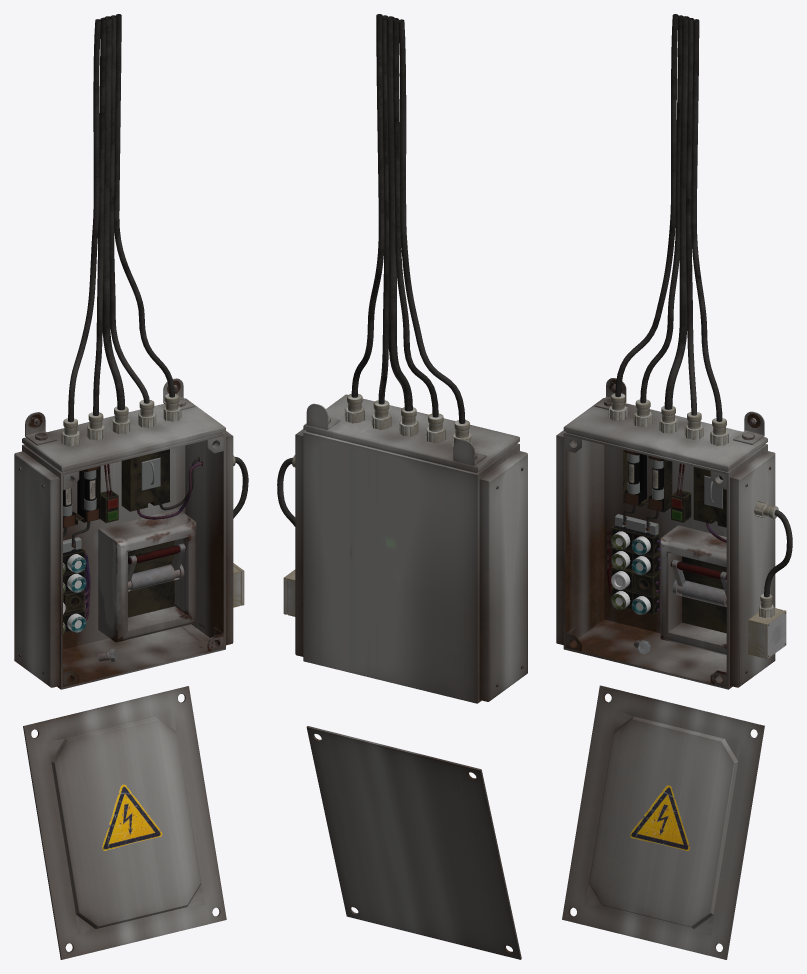
Rendered from old_fuse_box.glb.
3 views of the same model, side by side, from view 1: azimuth 30°, elevation 25°; view 2: azimuth 150°, elevation 25°; view 3: azimuth 330°, elevation 25° (orthographic). The views are drawn at different scales.
Visible parts, largest first — view 1: Lid, Cube.001, Cylinder.007, Cube.017, Top, BezierCurve, BezierCurve.004, BezierCurve.003, BezierCurve.002, BezierCurve.001, Cube.002, Cube.008 (+7 smaller); view 2: Cube.001, Lid, Cube.017, Top, BezierCurve, BezierCurve.004, BezierCurve.003, BezierCurve.002, BezierCurve.001, Cube.002, Cube.003, Cube.004; view 3: Lid, Cube.001, Cube.002, Cylinder.007, Top, BezierCurve, BezierCurve.002, BezierCurve.004, BezierCurve.001, BezierCurve.003, Cube.017, Cube.004 (+12 smaller).
Boxes of the visible parts, x1=… form: Lid: x1=23, y1=686, x2=226, y2=959; Cube.001: x1=22, y1=432, x2=225, y2=689; Cylinder.007: x1=98, y1=509, x2=196, y2=642; Cube.017: x1=14, y1=451, x2=59, y2=687; Top: x1=22, y1=398, x2=225, y2=472; BezierCurve: x1=102, y1=16, x2=124, y2=410; BezierCurve.004: x1=68, y1=19, x2=100, y2=422; BezierCurve.003: x1=93, y1=17, x2=106, y2=415; BezierCurve.002: x1=114, y1=14, x2=174, y2=397; BezierCurve.001: x1=109, y1=15, x2=149, y2=403; Cube.002: x1=224, y1=431, x2=233, y2=645; Cube.008: x1=130, y1=449, x2=169, y2=511; Cube.001: x1=303, y1=431, x2=519, y2=703; Lid: x1=306, y1=726, x2=521, y2=959; Cube.017: x1=479, y1=451, x2=527, y2=701; Top: x1=303, y1=394, x2=519, y2=473; BezierCurve: x1=386, y1=16, x2=412, y2=411; BezierCurve.004: x1=398, y1=19, x2=465, y2=423; BezierCurve.003: x1=392, y1=18, x2=438, y2=417; BezierCurve.002: x1=351, y1=14, x2=384, y2=397; BezierCurve.001: x1=378, y1=15, x2=388, y2=404; Cube.002: x1=295, y1=429, x2=305, y2=656; Cube.003: x1=306, y1=403, x2=486, y2=465; Cube.004: x1=283, y1=569, x2=295, y2=616; Lid: x1=562, y1=685, x2=764, y2=959; Cube.001: x1=563, y1=431, x2=767, y2=689; Cube.002: x1=730, y1=451, x2=775, y2=687; Cylinder.007: x1=660, y1=525, x2=726, y2=655; Top: x1=563, y1=398, x2=767, y2=471; BezierCurve: x1=664, y1=16, x2=689, y2=409; BezierCurve.002: x1=691, y1=19, x2=722, y2=421; BezierCurve.004: x1=615, y1=14, x2=678, y2=397; BezierCurve.001: x1=686, y1=18, x2=696, y2=415; BezierCurve.003: x1=640, y1=15, x2=683, y2=403; Cube.017: x1=556, y1=430, x2=565, y2=644; Cube.004: x1=748, y1=608, x2=786, y2=658.
Size of the model in its own units: 5.19 by 20.32 by 1.7.
Materials: 2 (2 with a texture image).
